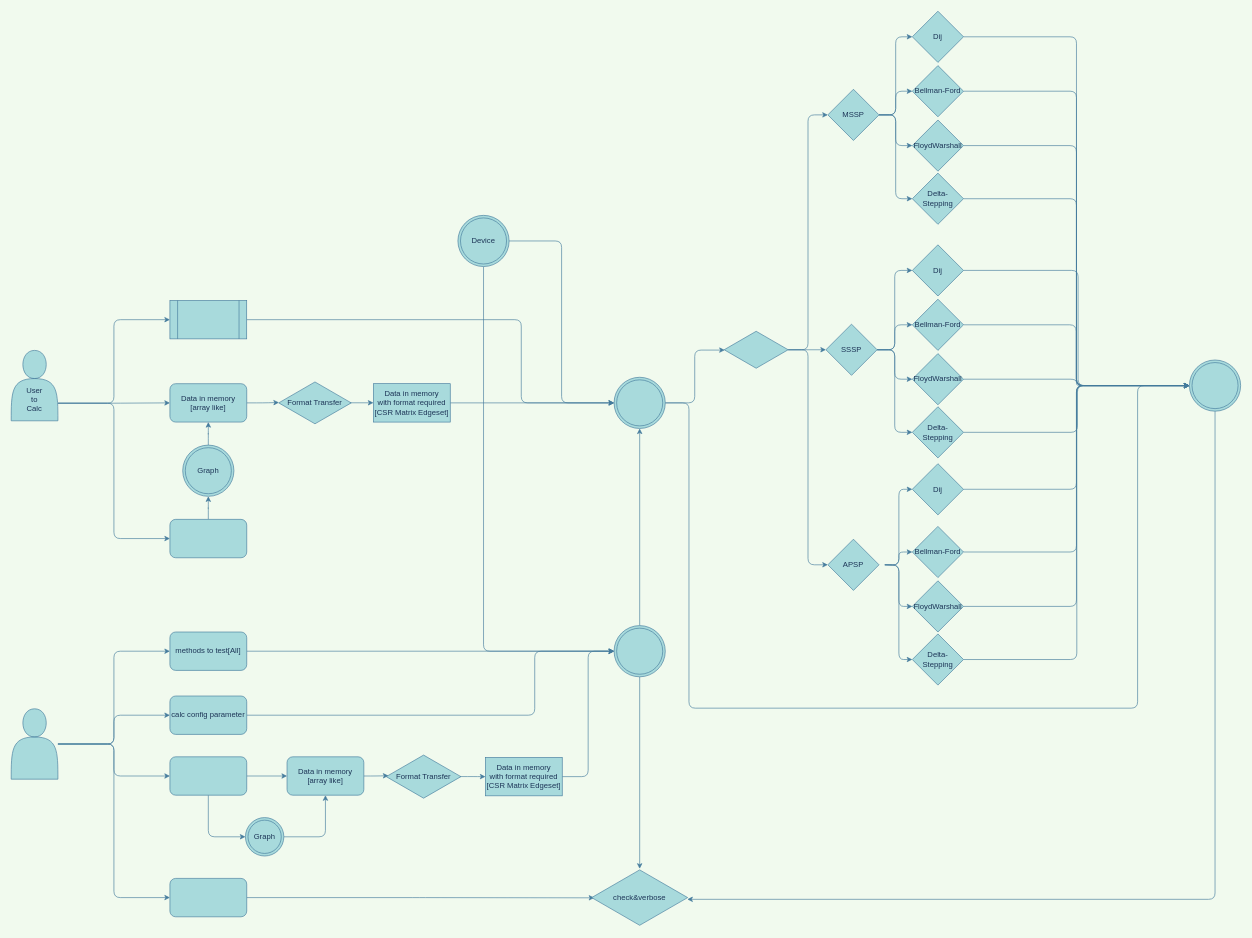
The diagram is 1252 pixels wide and 938 high, and some of its shapes have lost their labels. Here are the shapes that lost their labels. From the top down, the box of each, then its label:
(169, 300, 247, 339): User config parameter
(724, 330, 788, 369): Dispatch
(613, 377, 665, 428): Parameter
(1189, 359, 1241, 411): Result
(169, 519, 247, 558): Data in file [std format]
(613, 625, 665, 677): LoopTest
(11, 708, 58, 779): User to Test
(169, 756, 247, 795): Input Data
(169, 878, 247, 917): Std Output Data
